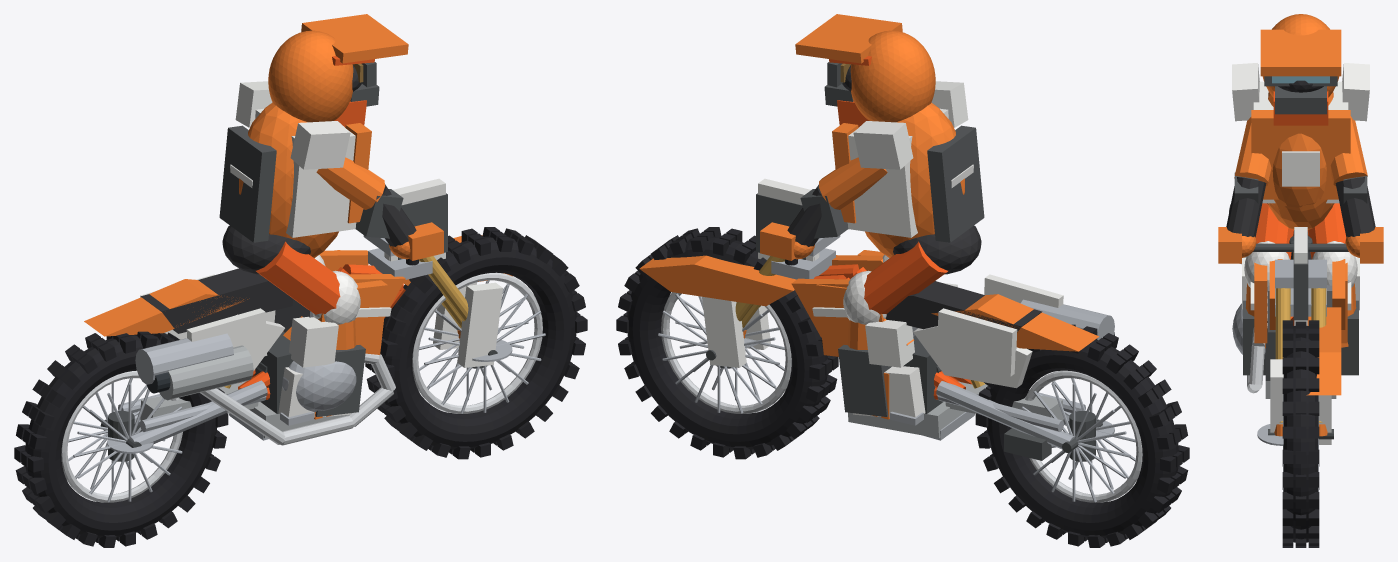
Rendered from dirt_bike_rider_arcade_v5.glb.
The picture shows the model from 3 angles, left to right: view 1: azimuth 30°, elevation 25°; view 2: azimuth 150°, elevation 25°; view 3: azimuth 270°, elevation 25°; orthographic projection. The views are drawn at different scales.
Visible parts, largest first — view 1: StaticGeometry, FrontTireMerged, RearTireMerged, RiderJersey; view 2: StaticGeometry, RiderJersey, RearTireMerged, FrontTireMerged; view 3: StaticGeometry, RiderJersey, FrontTireMerged.
Part boxes in pixels (box(x1,y1,x2,y2)): StaticGeometry: box(100, 56, 502, 447); FrontTireMerged: box(365, 227, 587, 459); RearTireMerged: box(14, 331, 228, 547); RiderJersey: box(84, 14, 512, 354); StaticGeometry: box(702, 56, 1114, 460); RiderJersey: box(639, 14, 1098, 356); RearTireMerged: box(975, 324, 1189, 547); FrontTireMerged: box(616, 227, 838, 459); StaticGeometry: box(1226, 63, 1375, 444); RiderJersey: box(1218, 14, 1383, 395); FrontTireMerged: box(1257, 320, 1319, 547).
Size of the model in its own units: 2.62 by 2.07 by 0.7.
